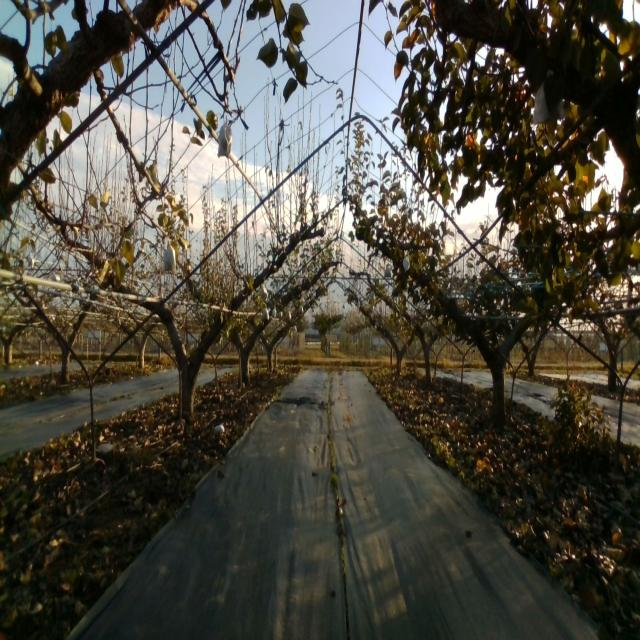pearbags: (216, 114, 233, 158), (160, 238, 177, 275)
